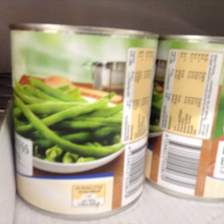beans: (10, 19, 148, 219), (156, 24, 224, 211)
